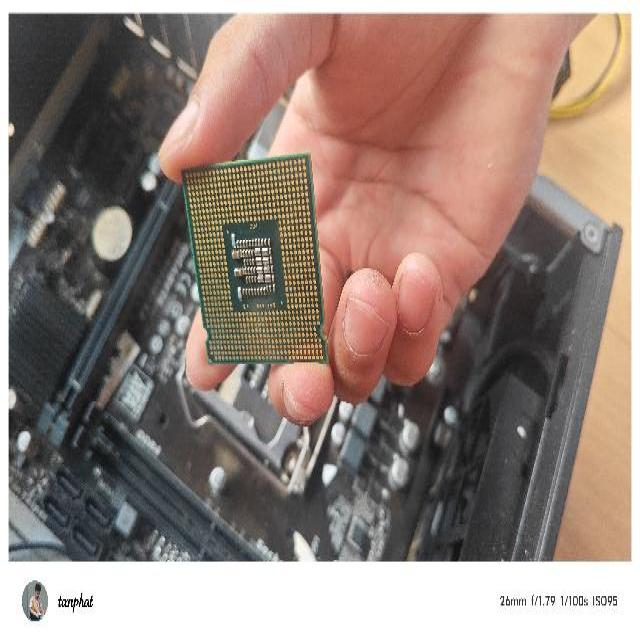CPU: (174, 152, 330, 369)
